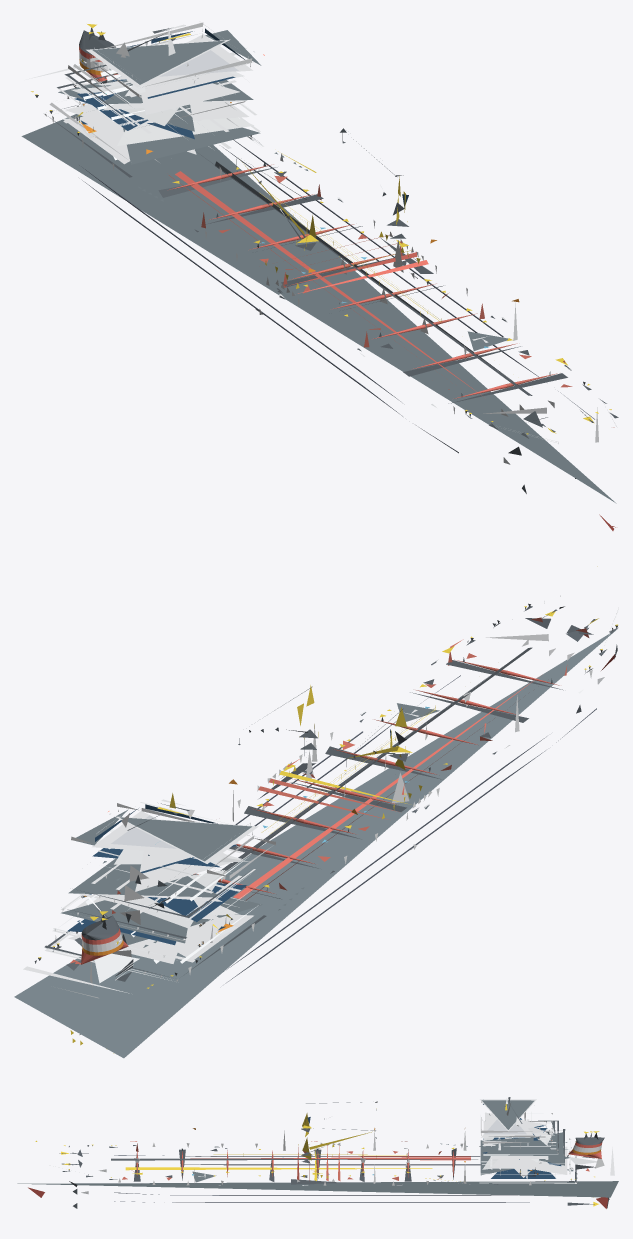
The model's file is ship_31.glb.
3 views of the same model, one above another, from view 1: azimuth 30°, elevation 25°; view 2: azimuth 150°, elevation 25°; view 3: azimuth 270°, elevation 25° (orthographic). The views are drawn at different scales.
Visible parts, largest first — view 1: TrueHelm_Ship_31; view 2: TrueHelm_Ship_31; view 3: TrueHelm_Ship_31.
Part boxes in pixels (box(x1,y1,x2,y2)): TrueHelm_Ship_31: box(21, 22, 618, 530); TrueHelm_Ship_31: box(14, 566, 618, 1058); TrueHelm_Ship_31: box(17, 1097, 618, 1208).
Size of the model in its own units: 0.1642 by 0.1981 by 0.9722.
